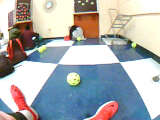Ball: (66, 71, 81, 86), (36, 46, 44, 54), (131, 41, 136, 49)
